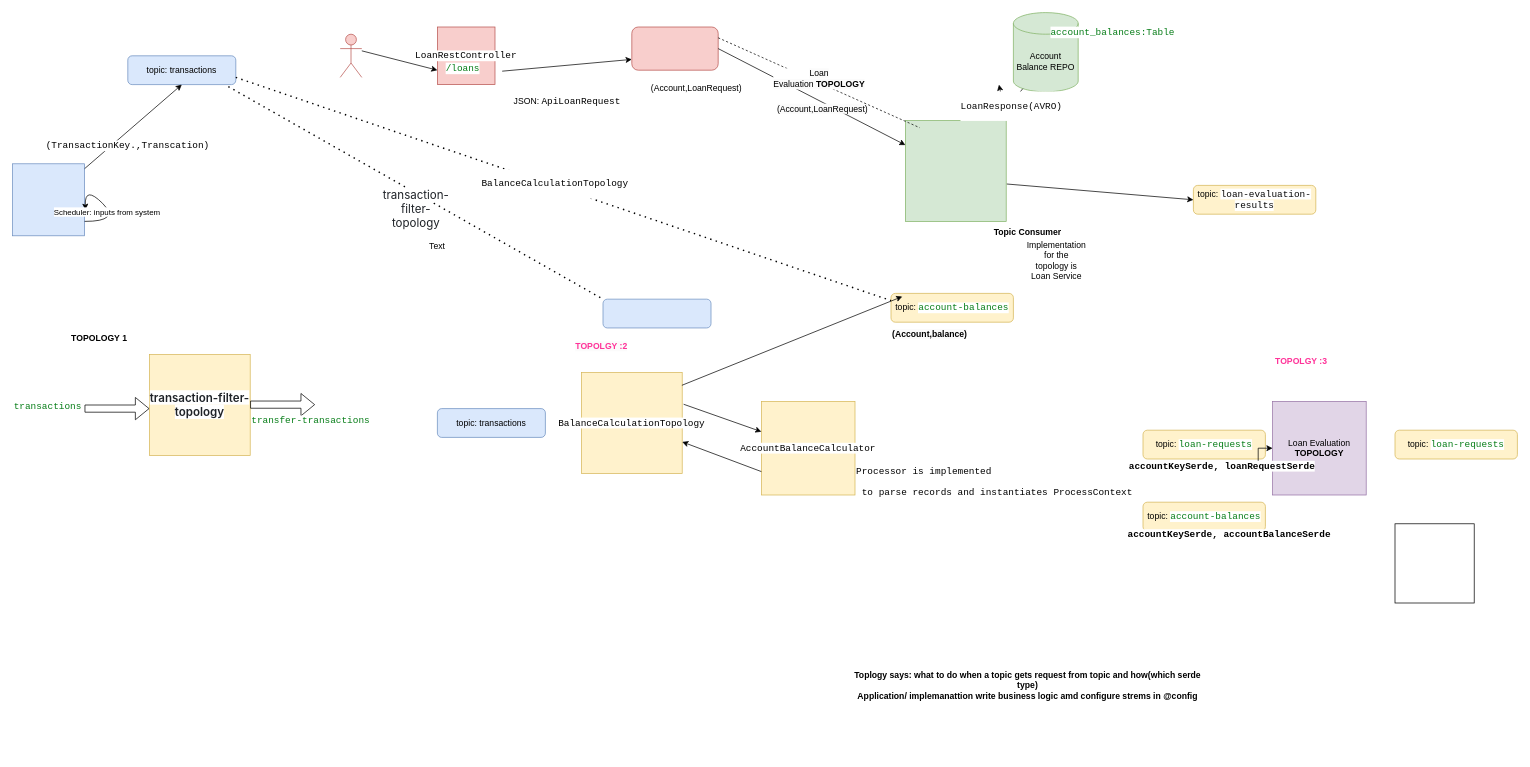
Image size: 1530x767. Some labels were removed from this diagram. Here are the shapes that lost their labels. From the top down, the centre of each, then its label:
At point 350,55: "Actor".
At point 674,48: "topic:loan-requests".
At point 955,170: "Loan EvaluationService".
At point 48,199: "Transaction Producer".
At point 656,313: "topic: transfer-transactions".
At point 1434,563: "Materialize to KTable left Join".
